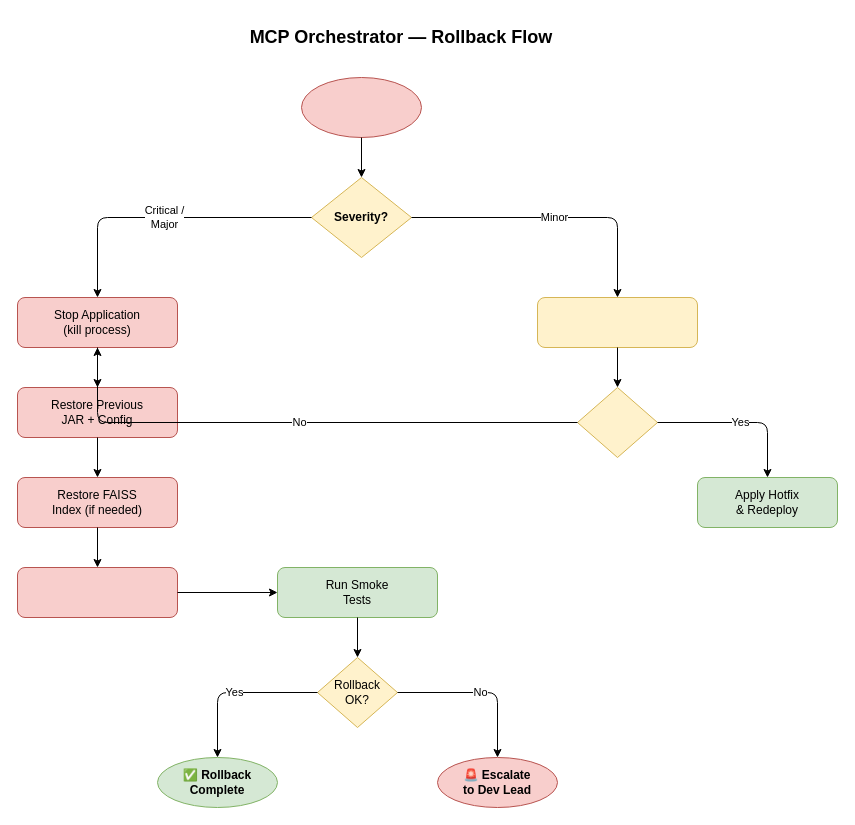
This 855x825 diagram has some shape labels left out. The centre of each missing label's shape, as x and y in pixels:
"Hotfix Possible?" goes at point 617,422.
"Log Issue & Investigate" goes at point 617,322.
"Start Previous Version" goes at point 97,592.
"⚠️ Issue Detected" goes at point 361,107.
